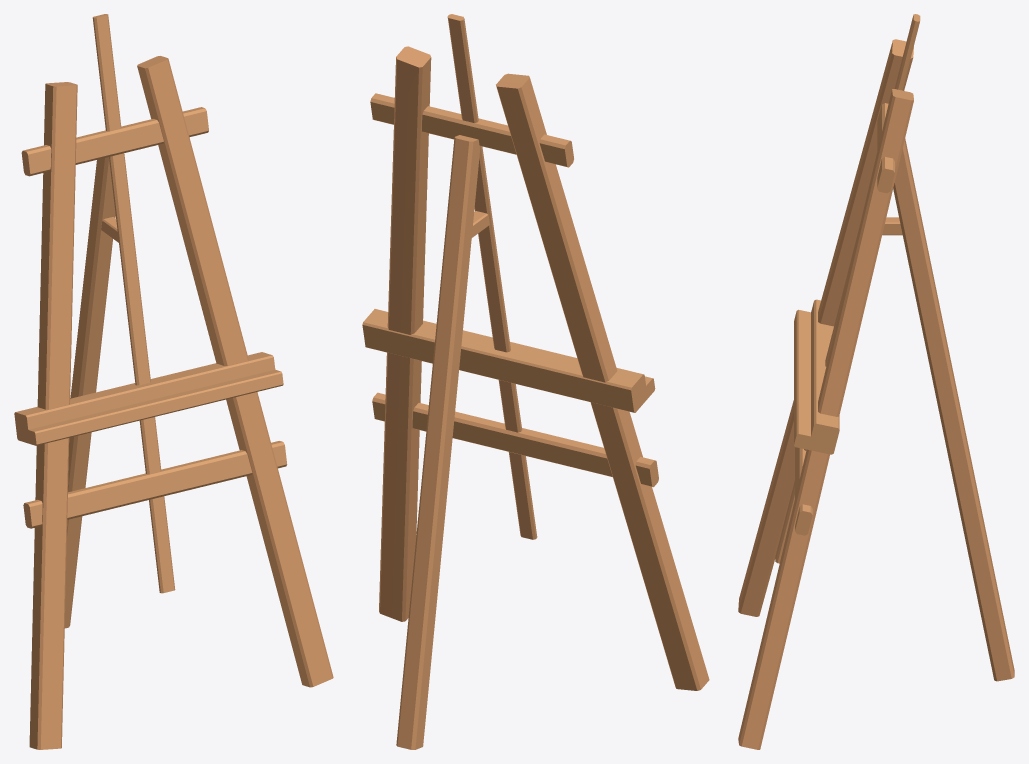
The model's file is 069a88d8-49a0-48ba-bbd1-e3cc46dc6db1.glb.
3 renders of one model, left to right at view 1: azimuth 30°, elevation 25°; view 2: azimuth 150°, elevation 25°; view 3: azimuth 270°, elevation 25°, orthographic. The views are drawn at different scales.
Parts seen in each view (by area): view 1: Easle; view 2: Easle; view 3: Easle.
Part boxes in pixels (left/top/right/bottom): Easle: left=14, top=14, right=333, bottom=749; Easle: left=362, top=14, right=709, bottom=749; Easle: left=738, top=14, right=1014, bottom=749.
Size of what is drawn, in the model's own units: 0.9774 by 2.03 by 0.7673.
1 material, 1 textured.
